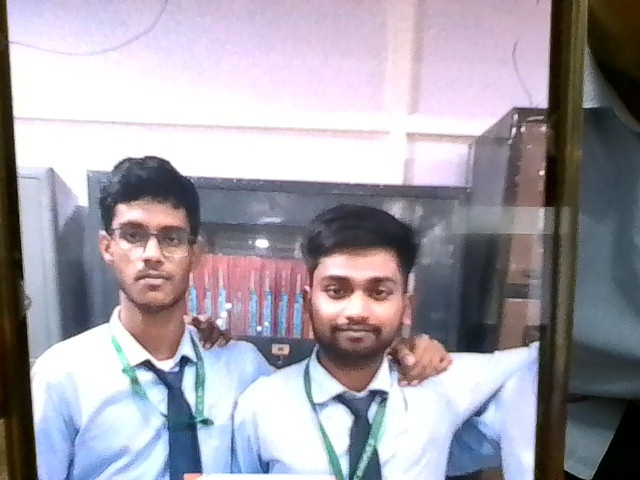real: (299, 211, 415, 375), (93, 158, 207, 319)
